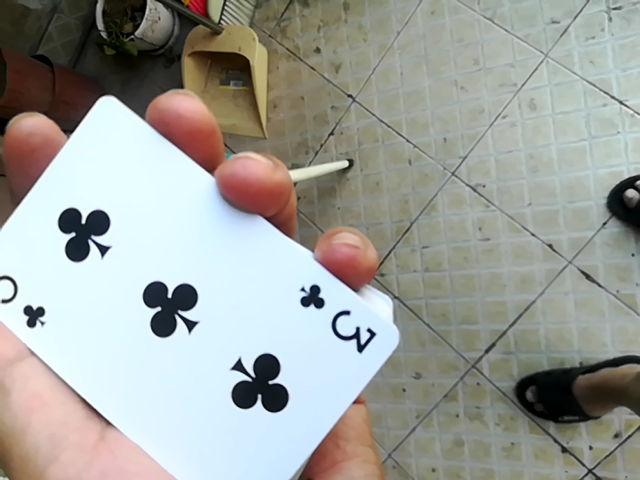mh 3: (0, 97, 393, 478)
